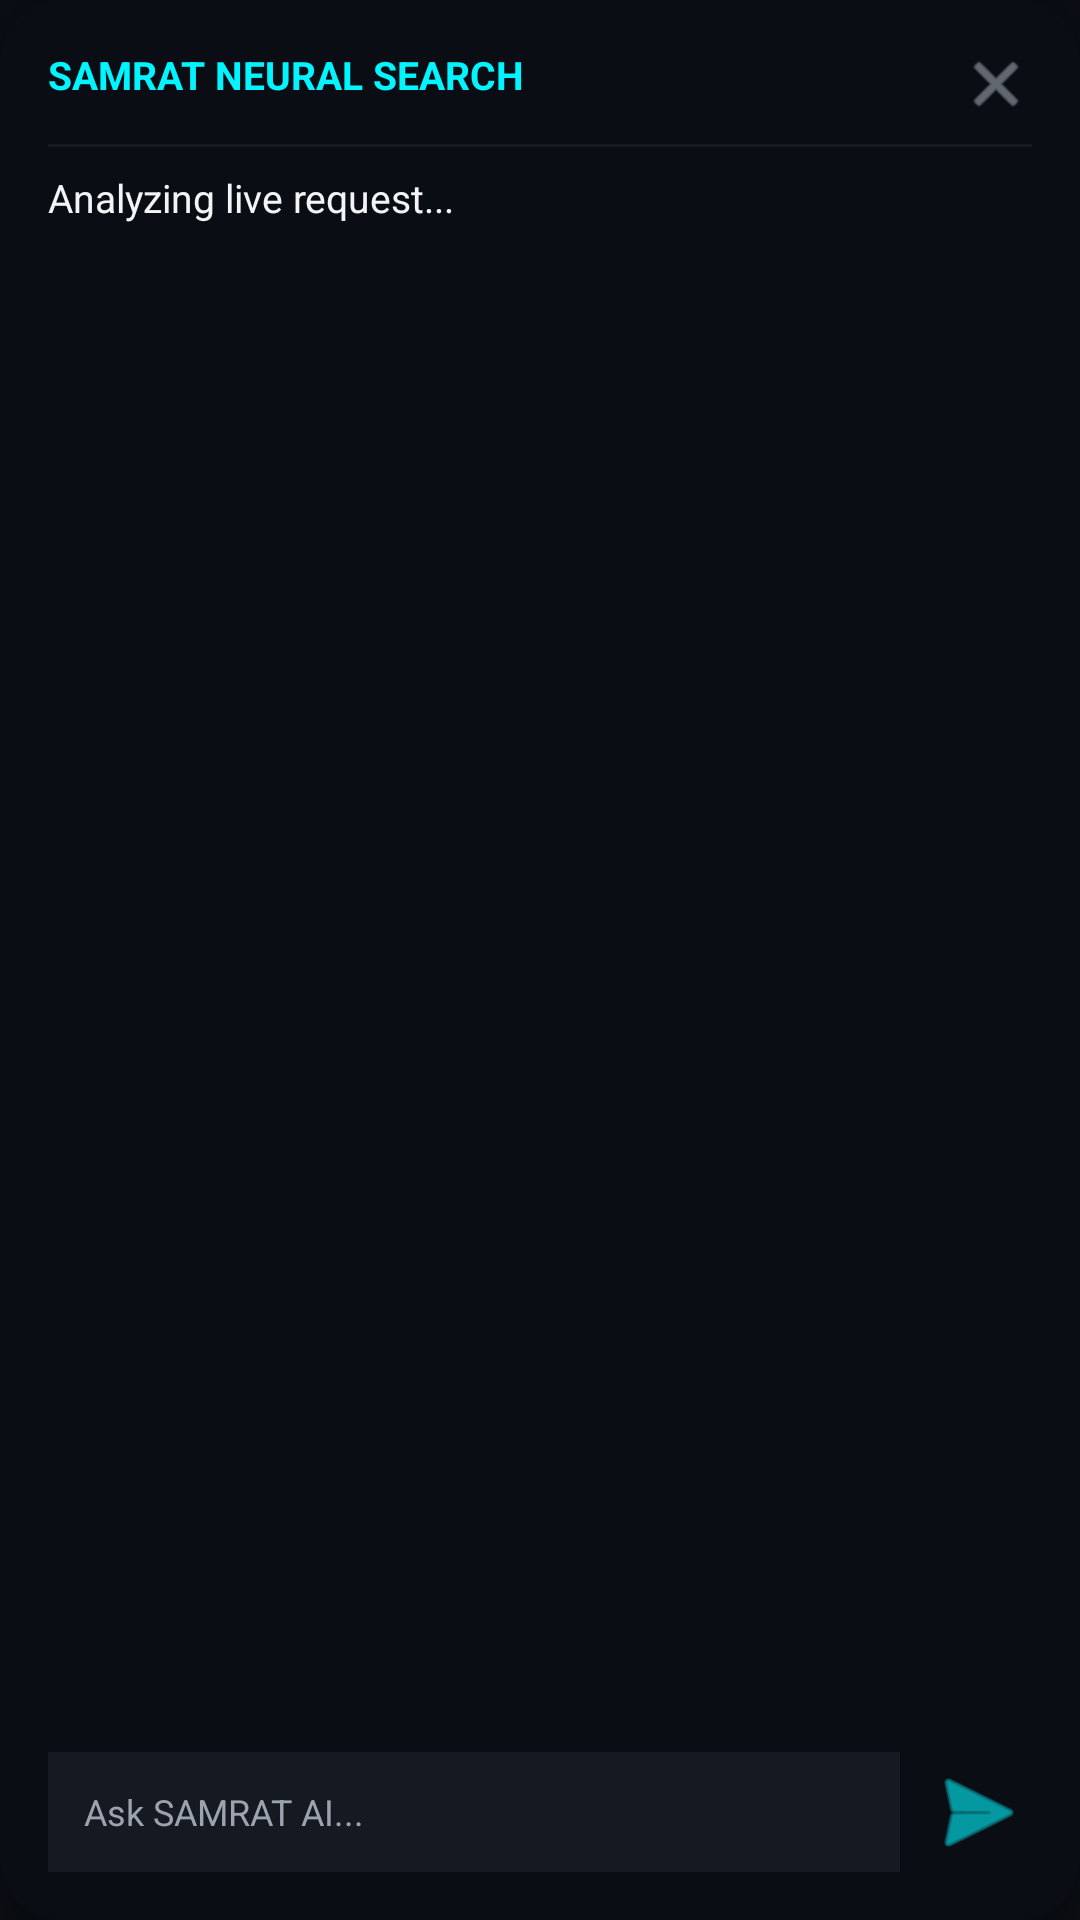

Icons on this 1080px x 1920px Android screen, each with the point to tap as (x,y):
Close: (996,84)
Send: (979,1812)
